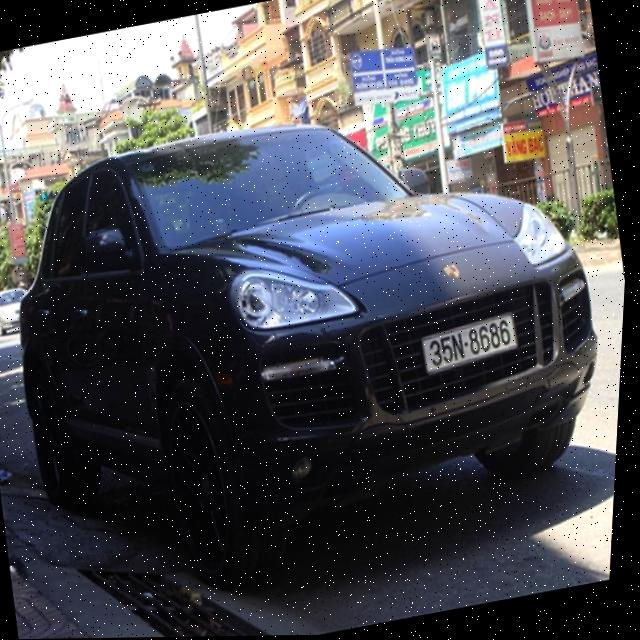car: (0, 67, 636, 640)
plate: (414, 307, 527, 378)
